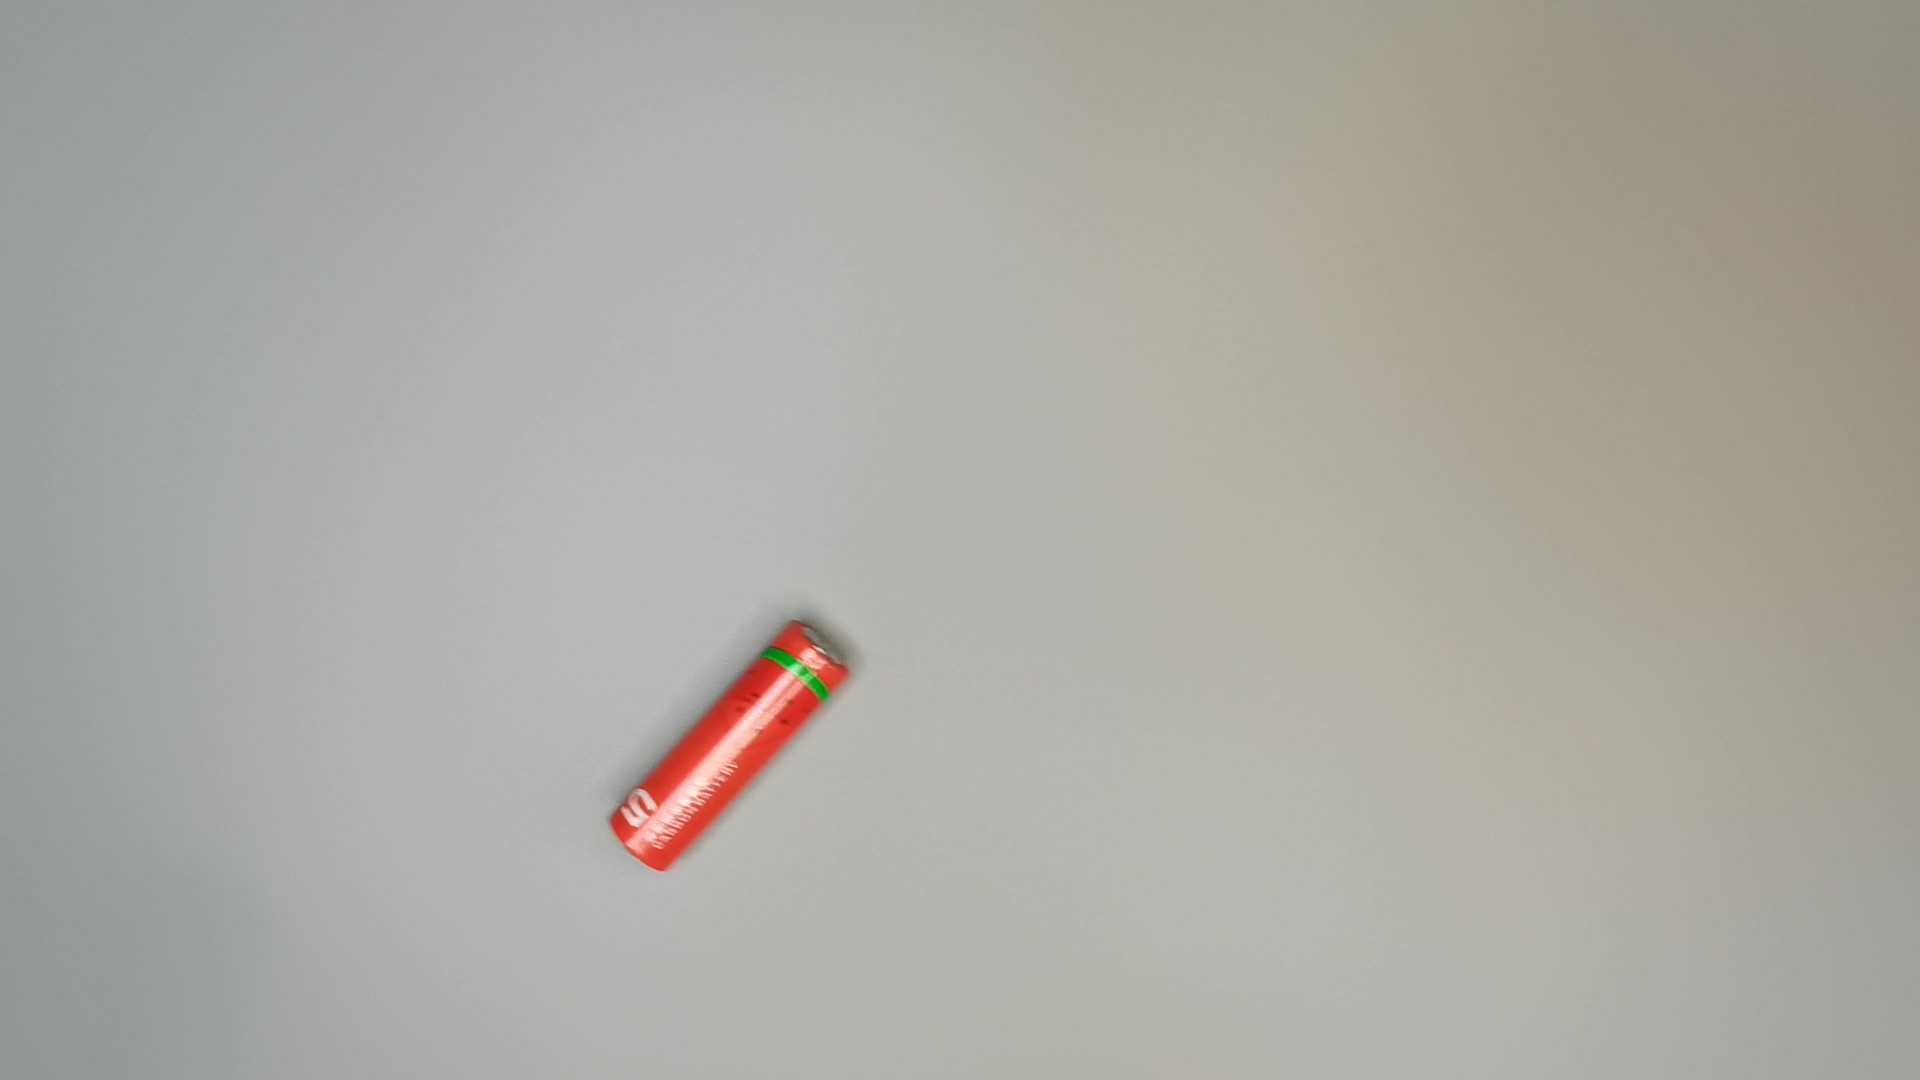battery: (597, 611, 862, 886)
